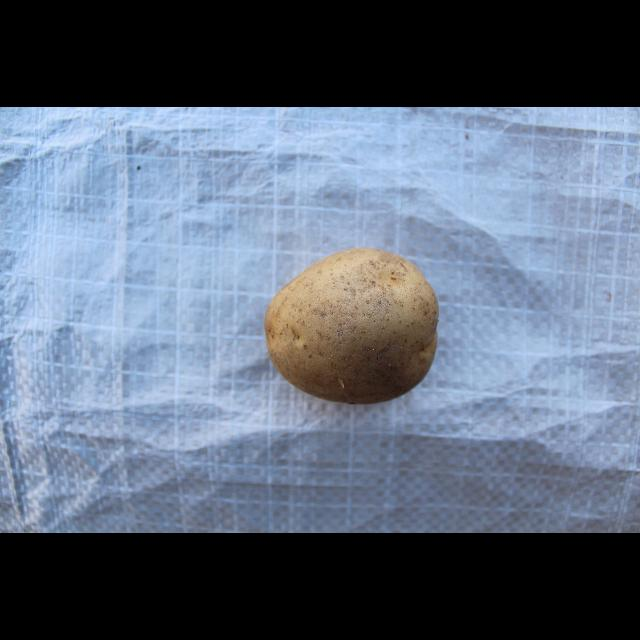Diseased-fungal potato: (258, 249, 440, 406)
